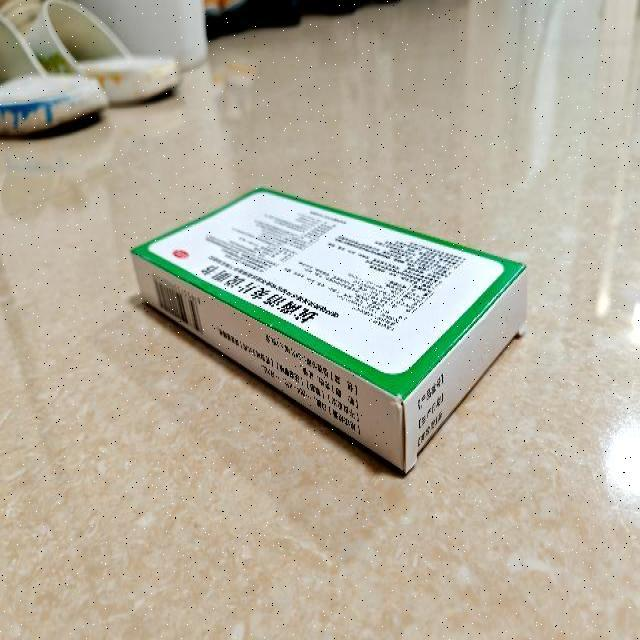box: (132, 184, 528, 472)
